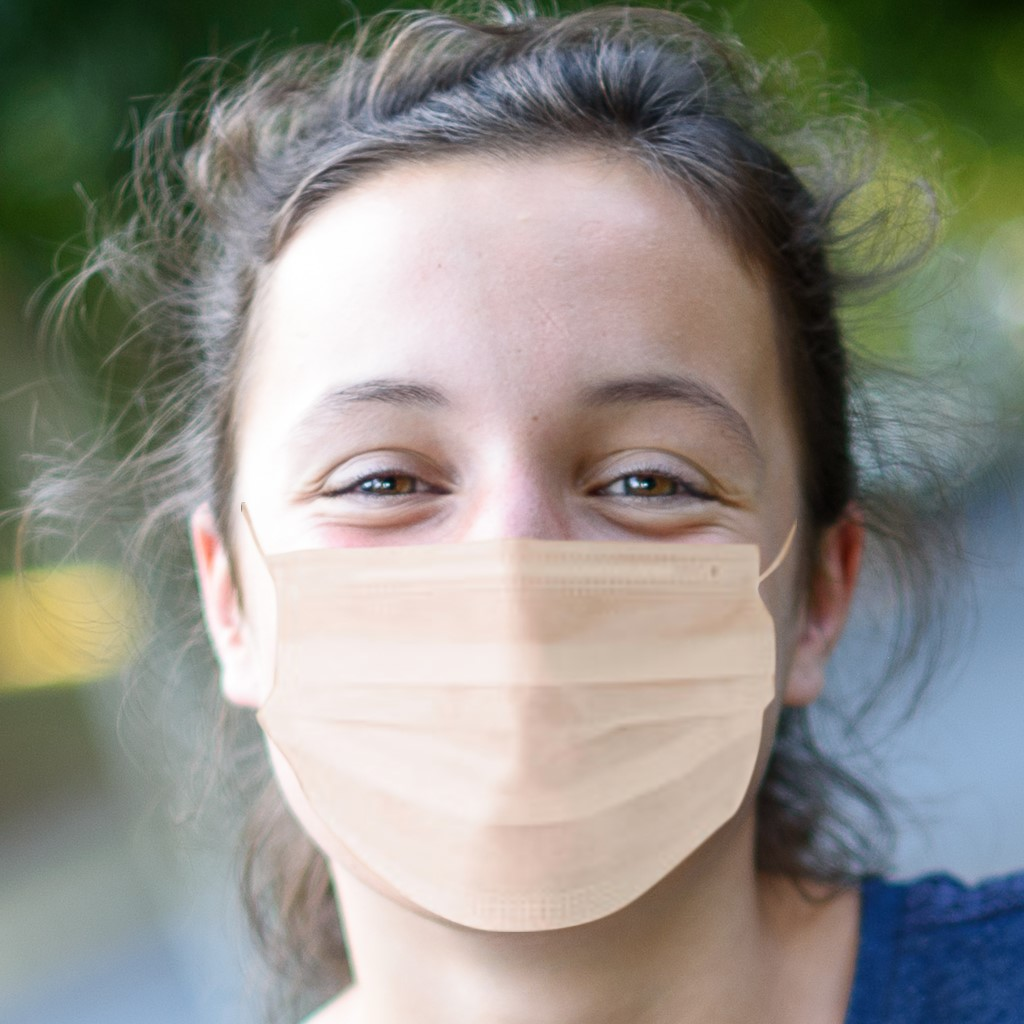con_mascara: (211, 109, 808, 911)
